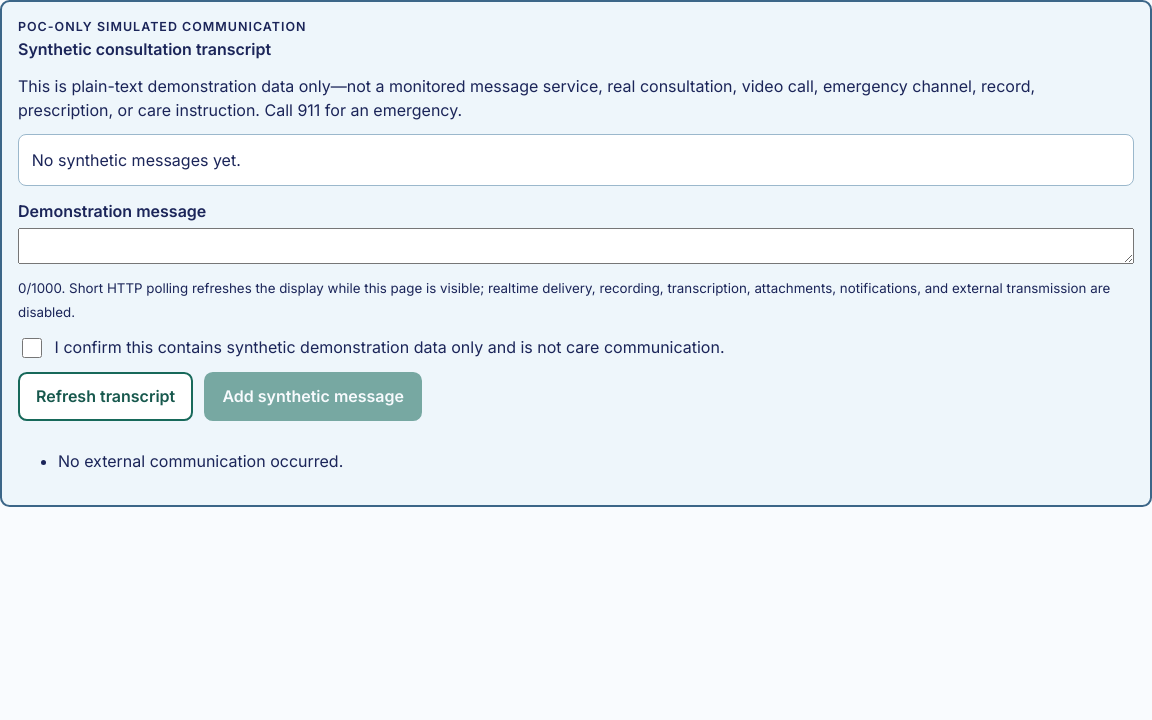
Test case: TelehealthConversationPanel › requires an explicit synthetic-data confirmation before adding a message
The width and height of the screenshot is (1152, 720).
Check: the text "No synthetic messages yet." is shown, box top-left (32, 150), bottom-right (241, 170)
Type "Synthetic hello" into the text box labelled "Demonstration message" at (576, 246), box top-left (18, 228), bottom-right (1134, 264)
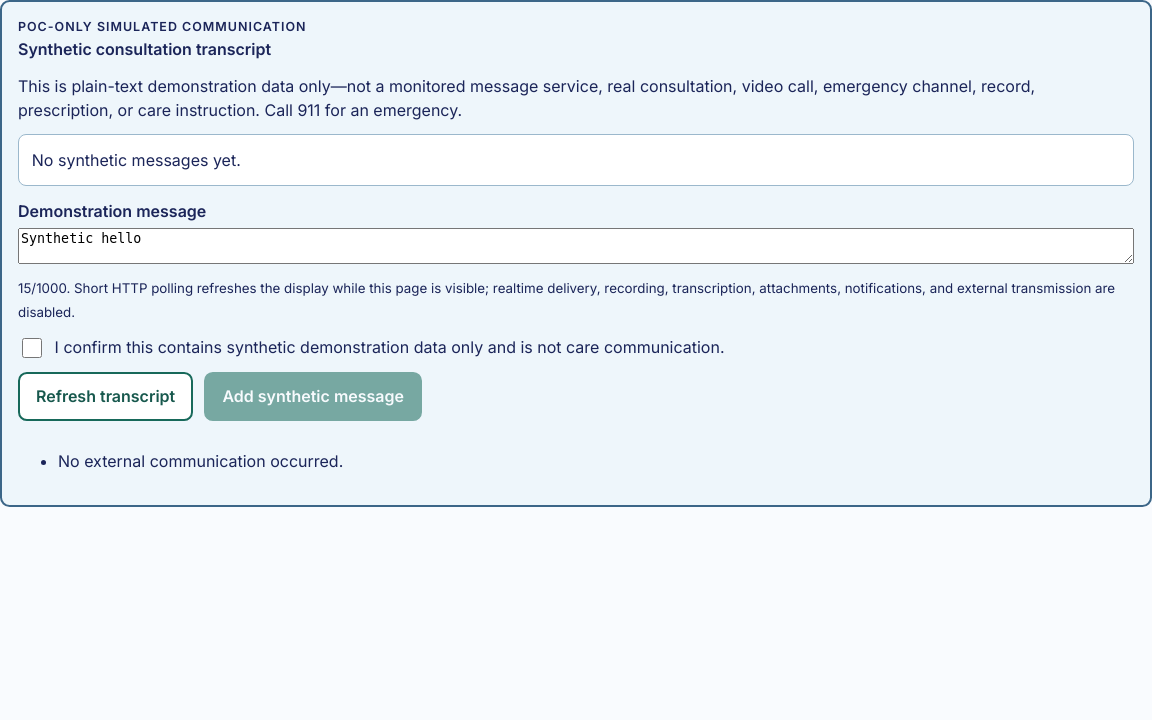
Check: the button "Add synthetic message" is disabled, box top-left (204, 372), bottom-right (422, 421)
Click the checkbox labelled "contains synthetic demonstration data only" at (32, 348), box top-left (22, 338), bottom-right (42, 358)
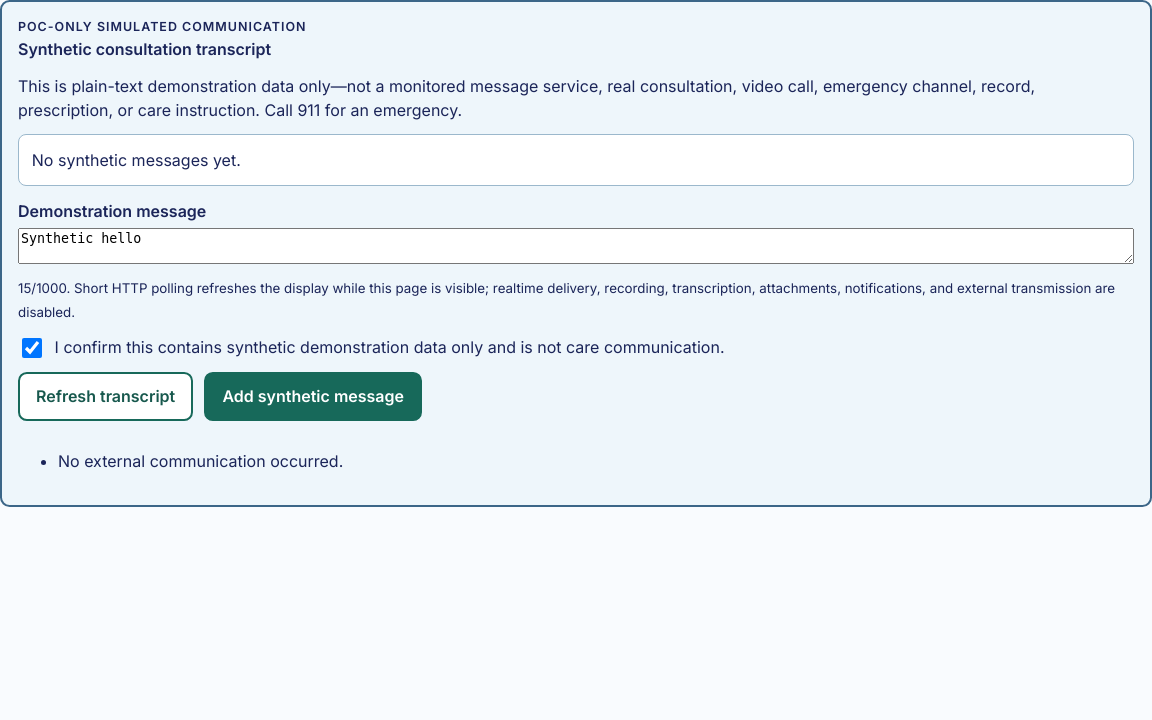
Check: the button "Add synthetic message" is enabled
Click the button "Add synthetic message" at (313, 396), box top-left (204, 372), bottom-right (422, 421)
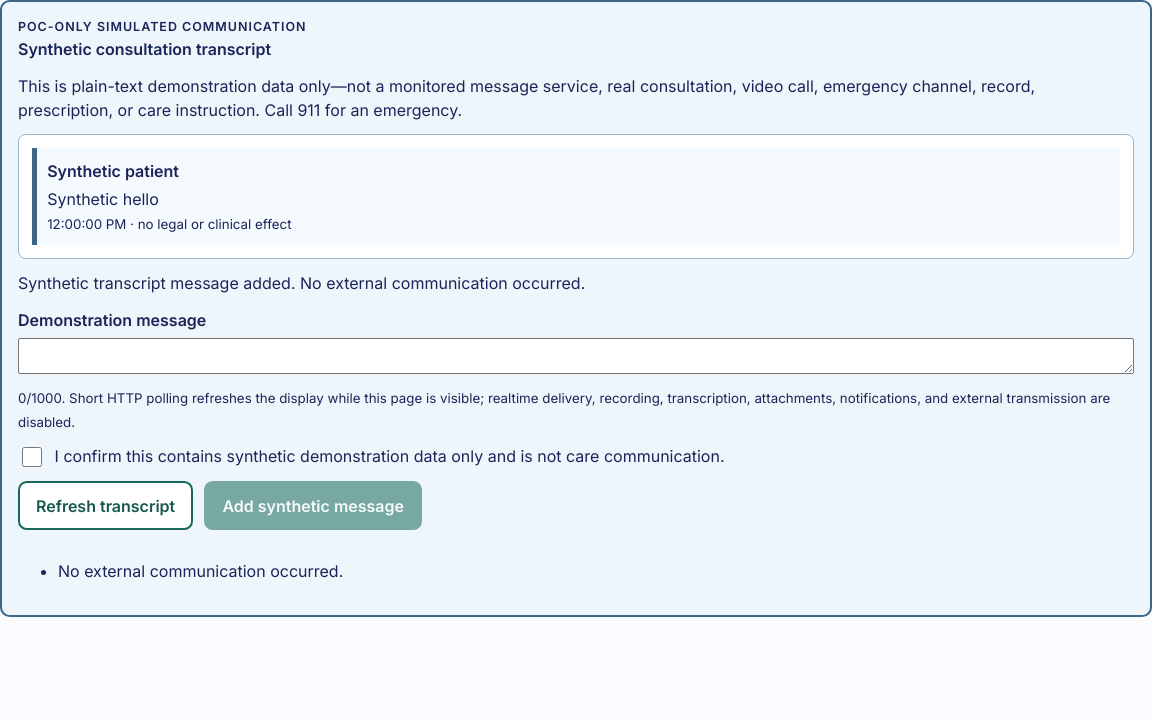
Check: the text "Synthetic hello" is shown, box top-left (47, 188), bottom-right (159, 208)
Check: the text "Synthetic transcript message added. No external communication occurred." is shown, box top-left (18, 274), bottom-right (585, 294)
